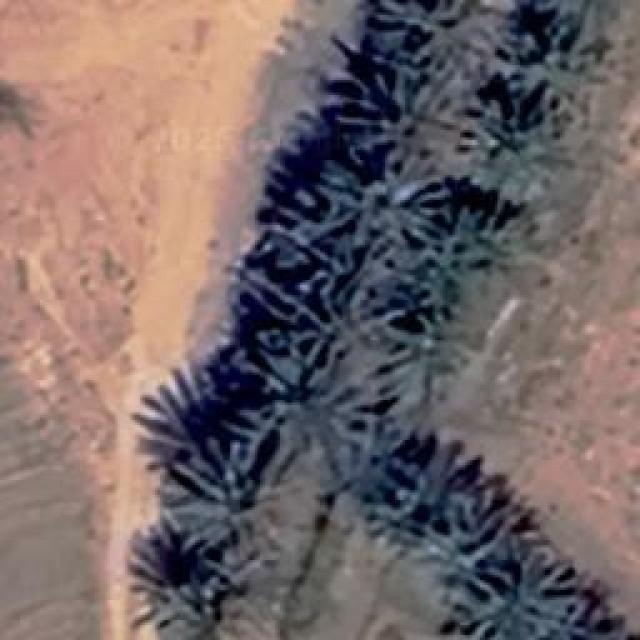PalmTree: (113, 87, 324, 317), (119, 537, 259, 640), (452, 92, 570, 200), (252, 345, 370, 453), (370, 0, 515, 85), (381, 434, 481, 554), (162, 440, 268, 550), (455, 552, 583, 638), (115, 83, 396, 120), (521, 5, 624, 100), (314, 158, 414, 252), (368, 315, 470, 403), (430, 202, 510, 276)
